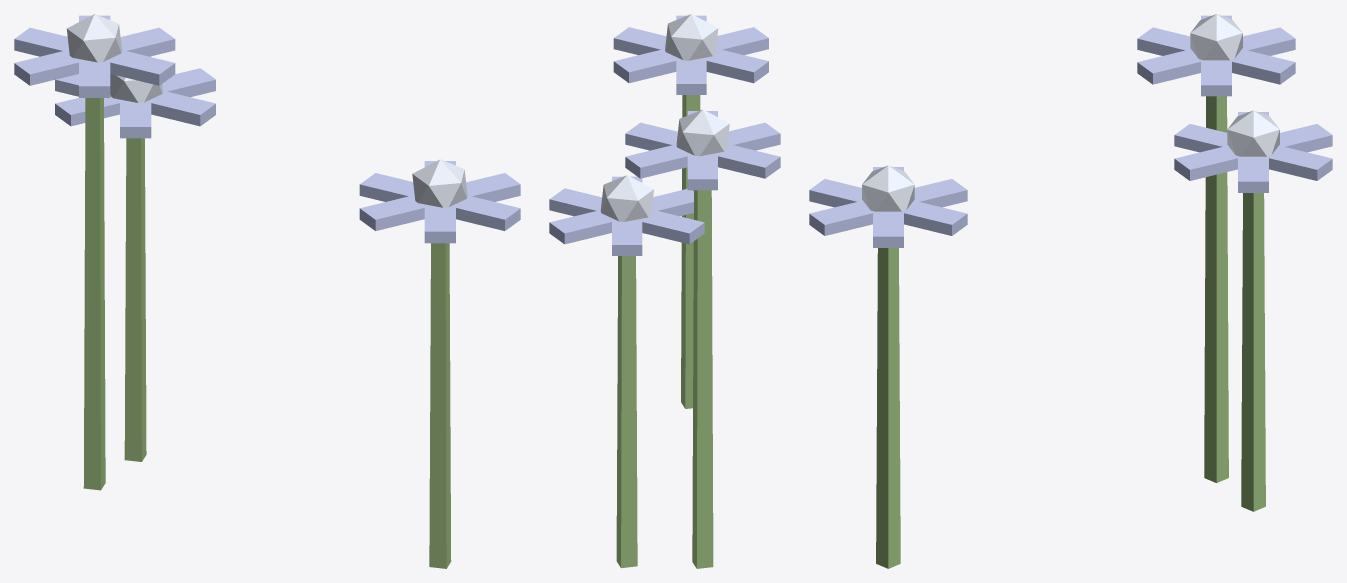
The model's file is Moonflower.fbx.
The picture shows the model from 3 angles, left to right: view 1: azimuth 30°, elevation 25°; view 2: azimuth 150°, elevation 25°; view 3: azimuth 270°, elevation 25°; orthographic projection. The views are drawn at different scales.
Parts seen in each view (by area): view 1: Moonflower_Mesh; view 2: Moonflower_Mesh; view 3: Moonflower_Mesh.
Boxes of the visible parts, box(x1,y1,x2,y2) form: Moonflower_Mesh: box(14, 14, 520, 568); Moonflower_Mesh: box(549, 14, 780, 568); Moonflower_Mesh: box(809, 14, 1332, 568).
Size of the model in its own units: 0.3569 by 0.4968 by 0.5079.
